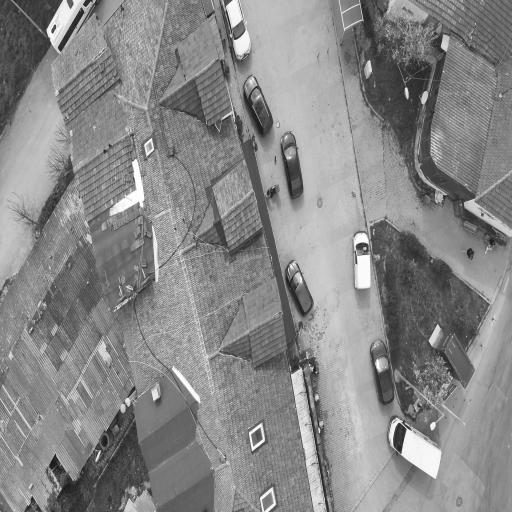car: (387, 416, 441, 477), (47, 0, 100, 53), (244, 75, 273, 135), (224, 0, 250, 60), (285, 261, 313, 316), (370, 340, 394, 404), (281, 131, 303, 198), (354, 231, 371, 289)
person: (486, 238, 495, 253), (462, 248, 474, 259)
